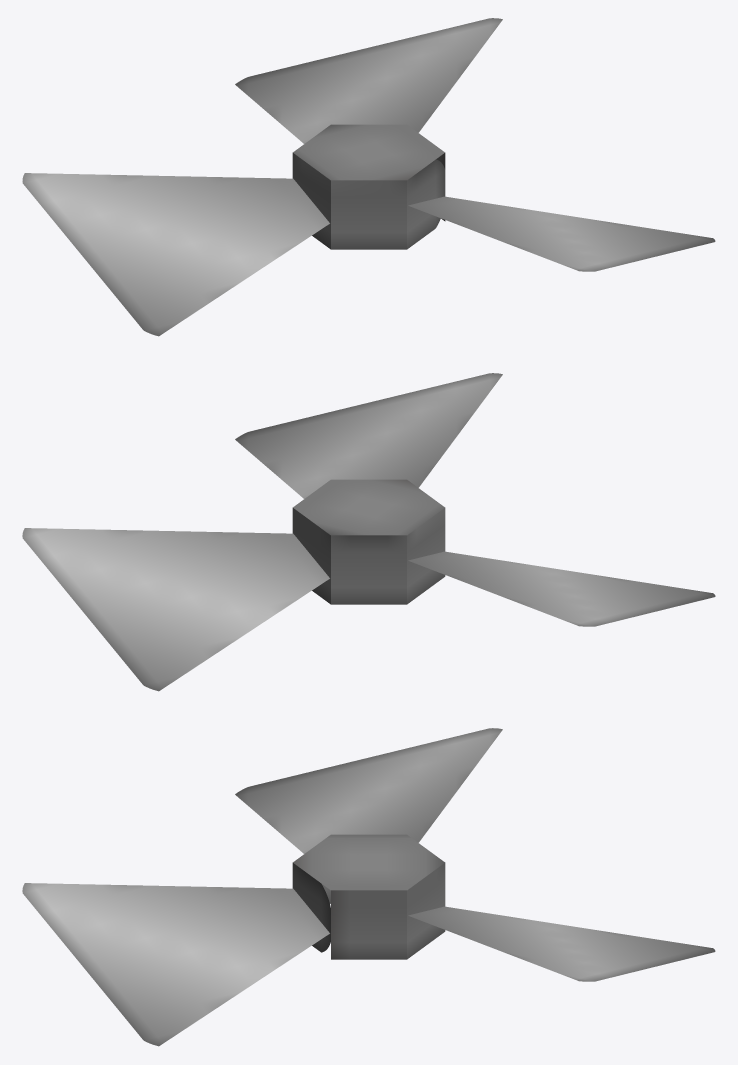
Rendered from machine_intake_fan.obj.
3 renders of one model, top to bottom at view 1: azimuth 30°, elevation 25°; view 2: azimuth 150°, elevation 25°; view 3: azimuth 270°, elevation 25°, orthographic.
Parts seen in each view (by area): view 1: Fan; view 2: Fan; view 3: Fan.
Boxes of the visible parts, x1,y1,x2,y2 form: Fan: (22, 18, 715, 336); Fan: (22, 373, 715, 691); Fan: (22, 728, 715, 1046).
Size of the model in its own units: 1.01 by 0.125 by 1.16.
